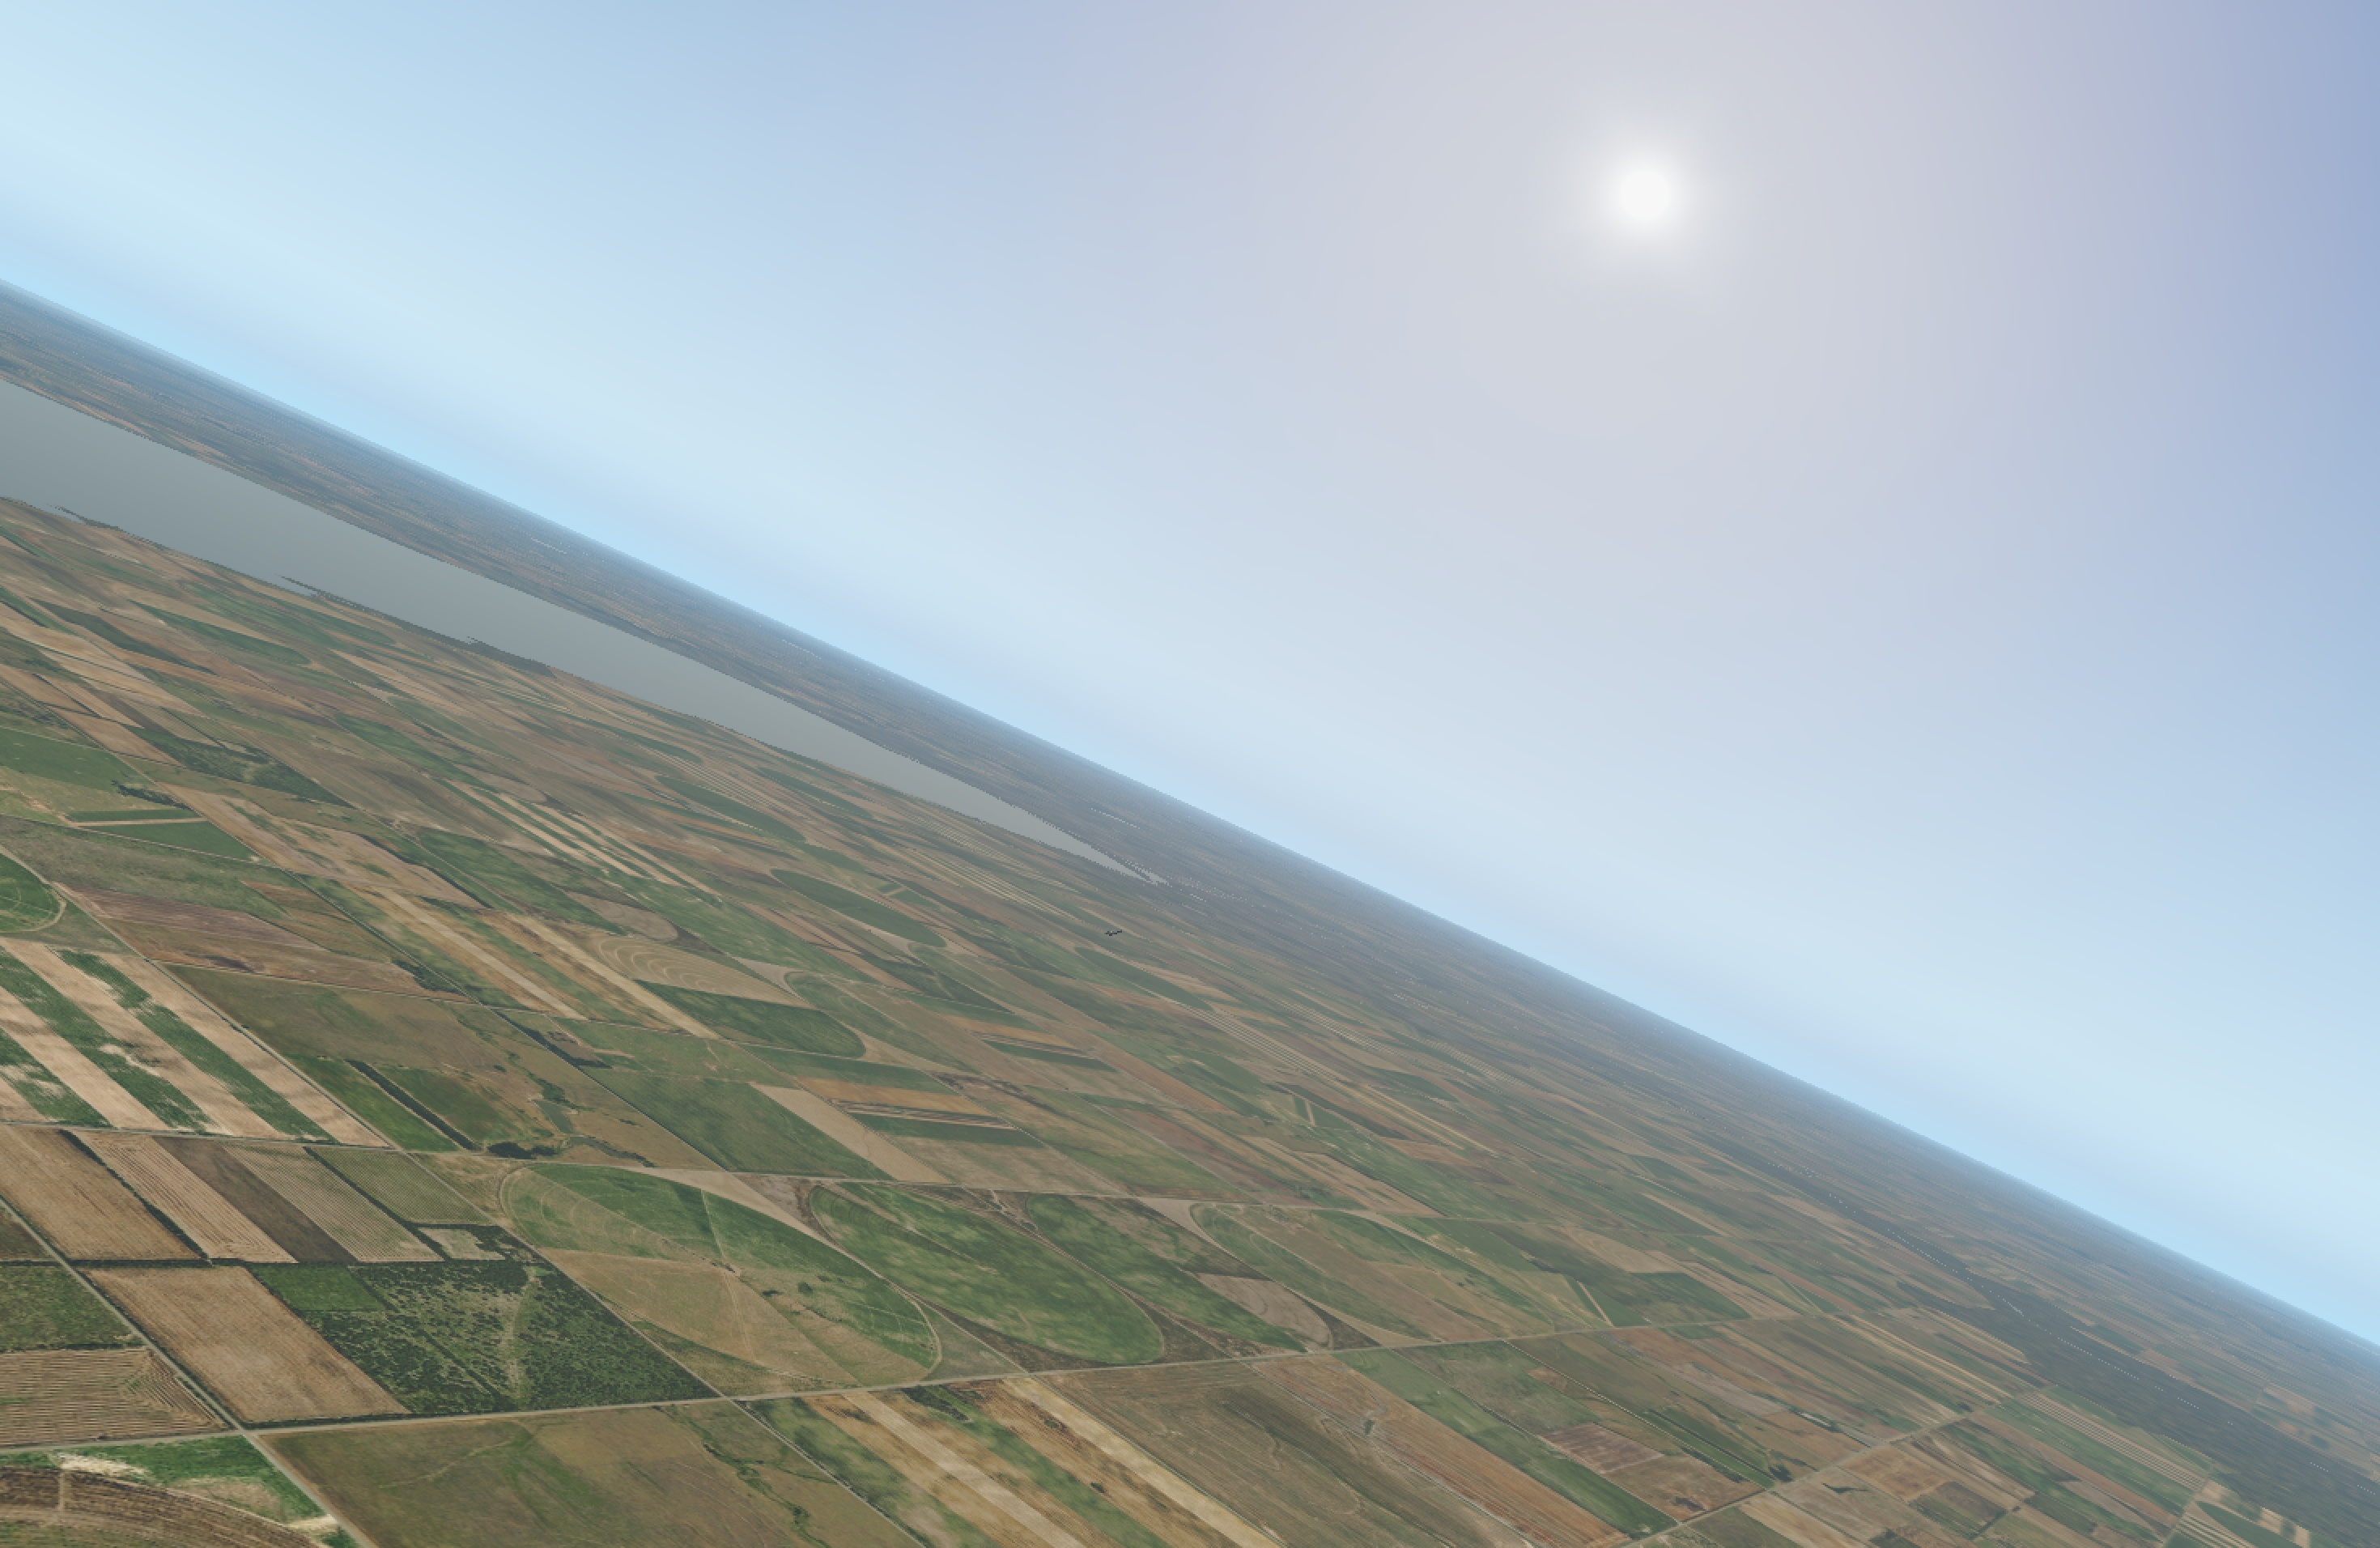aircraft: (1102, 930, 1119, 937)
